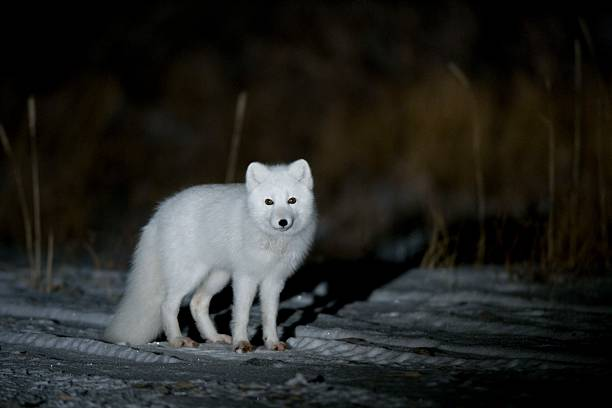arcticfox: (245, 159, 318, 238)
